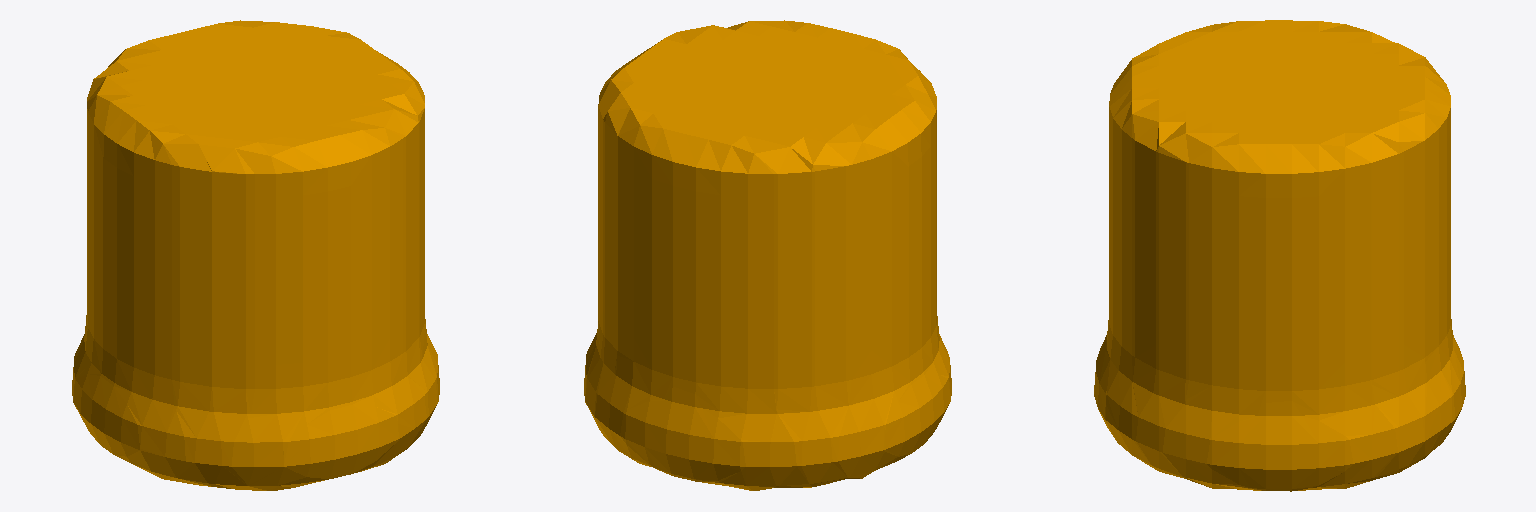
URDF robot description (cylinder_../../meshes/cylinders/cylinder_152.stl):
<?xml version="1.0" encoding="utf-8"?>  <robot name="cylinder_../../meshes/cylinders/cylinder_152.stl">   <link name="cylinder_../../meshes/cylinders/cylinder_152.stl">     <visual>       <geometry>         <mesh filename="../meshes/cylinders/cylinder_152.stl" scale="1 1 1"/>       </geometry>     </visual>     <collision>       <geometry>         <mesh filename="../meshes/cylinders/cylinder_152.stl" scale="1 1 1"/>       </geometry>     </collision>     <inertial>        <origin         xyz="0 0 0"         rpy="0 0 0" />       <mass value="0.23594470949893734"/>       <origin rpy="0 0 0" xyz="0 0 0"/>       <inertia ixx="0.0001625306563369825" ixy="-2.8276155022480934e-08" ixz="2.0177281276235807e-08" iyy="0.00016253291582602624" iyz="2.2129187114603147e-08" izz="0.00012453045031632302"/>     </inertial>   </link>  </robot>

--- Facts derived from the render (not from the file) ---
The picture shows the robot from 3 angles, left to right: view 1: azimuth 30°, elevation 25°; view 2: azimuth 150°, elevation 25°; view 3: azimuth 270°, elevation 25°; orthographic projection.
Robot: cylinder_../../meshes/cylinders/cylinder_152.stl — 1 links, 0 joints (none); root link cylinder_../../meshes/cylinders/cylinder_152.stl; default pose: every joint at zero.
Visible links, largest first — view 1: cylinder_../../meshes/cylinders/cylinder_152.stl; view 2: cylinder_../../meshes/cylinders/cylinder_152.stl; view 3: cylinder_../../meshes/cylinders/cylinder_152.stl.
Link boxes in pixels (x1=…): cylinder_../../meshes/cylinders/cylinder_152.stl: x1=72, y1=20, x2=439, y2=490; cylinder_../../meshes/cylinders/cylinder_152.stl: x1=584, y1=20, x2=951, y2=490; cylinder_../../meshes/cylinders/cylinder_152.stl: x1=1094, y1=20, x2=1465, y2=491.
Bounding box of the posed robot: 0.0697 × 0.0697 × 0.0715 m (x, y, z).
1 mesh visuals loaded from 1 distinct referenced files (1 binary STL).